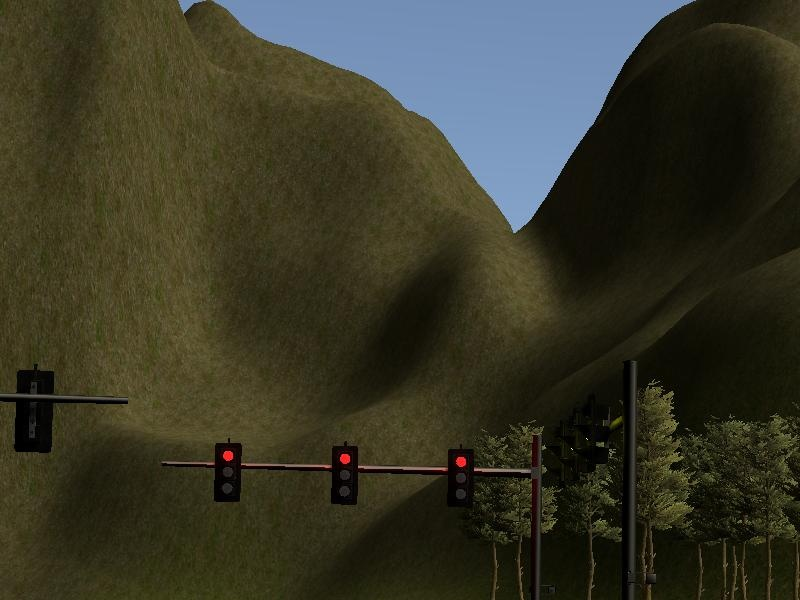red: (212, 441, 242, 502), (329, 444, 359, 505), (446, 447, 474, 509)
